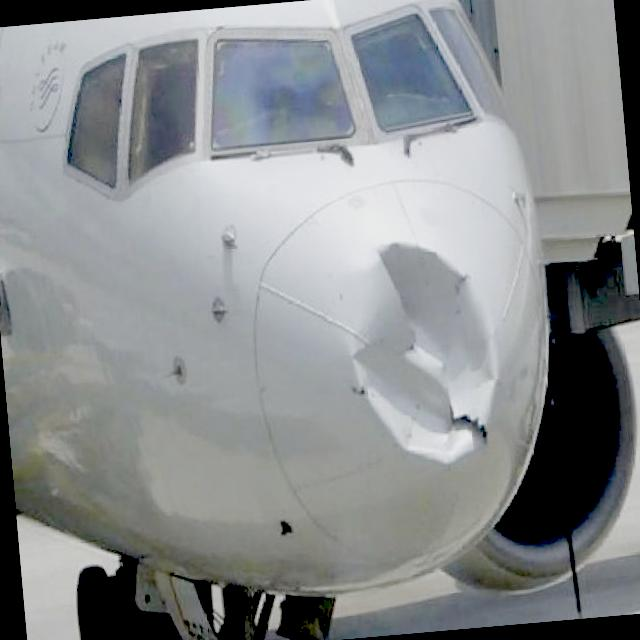dent: (333, 230, 510, 480)
